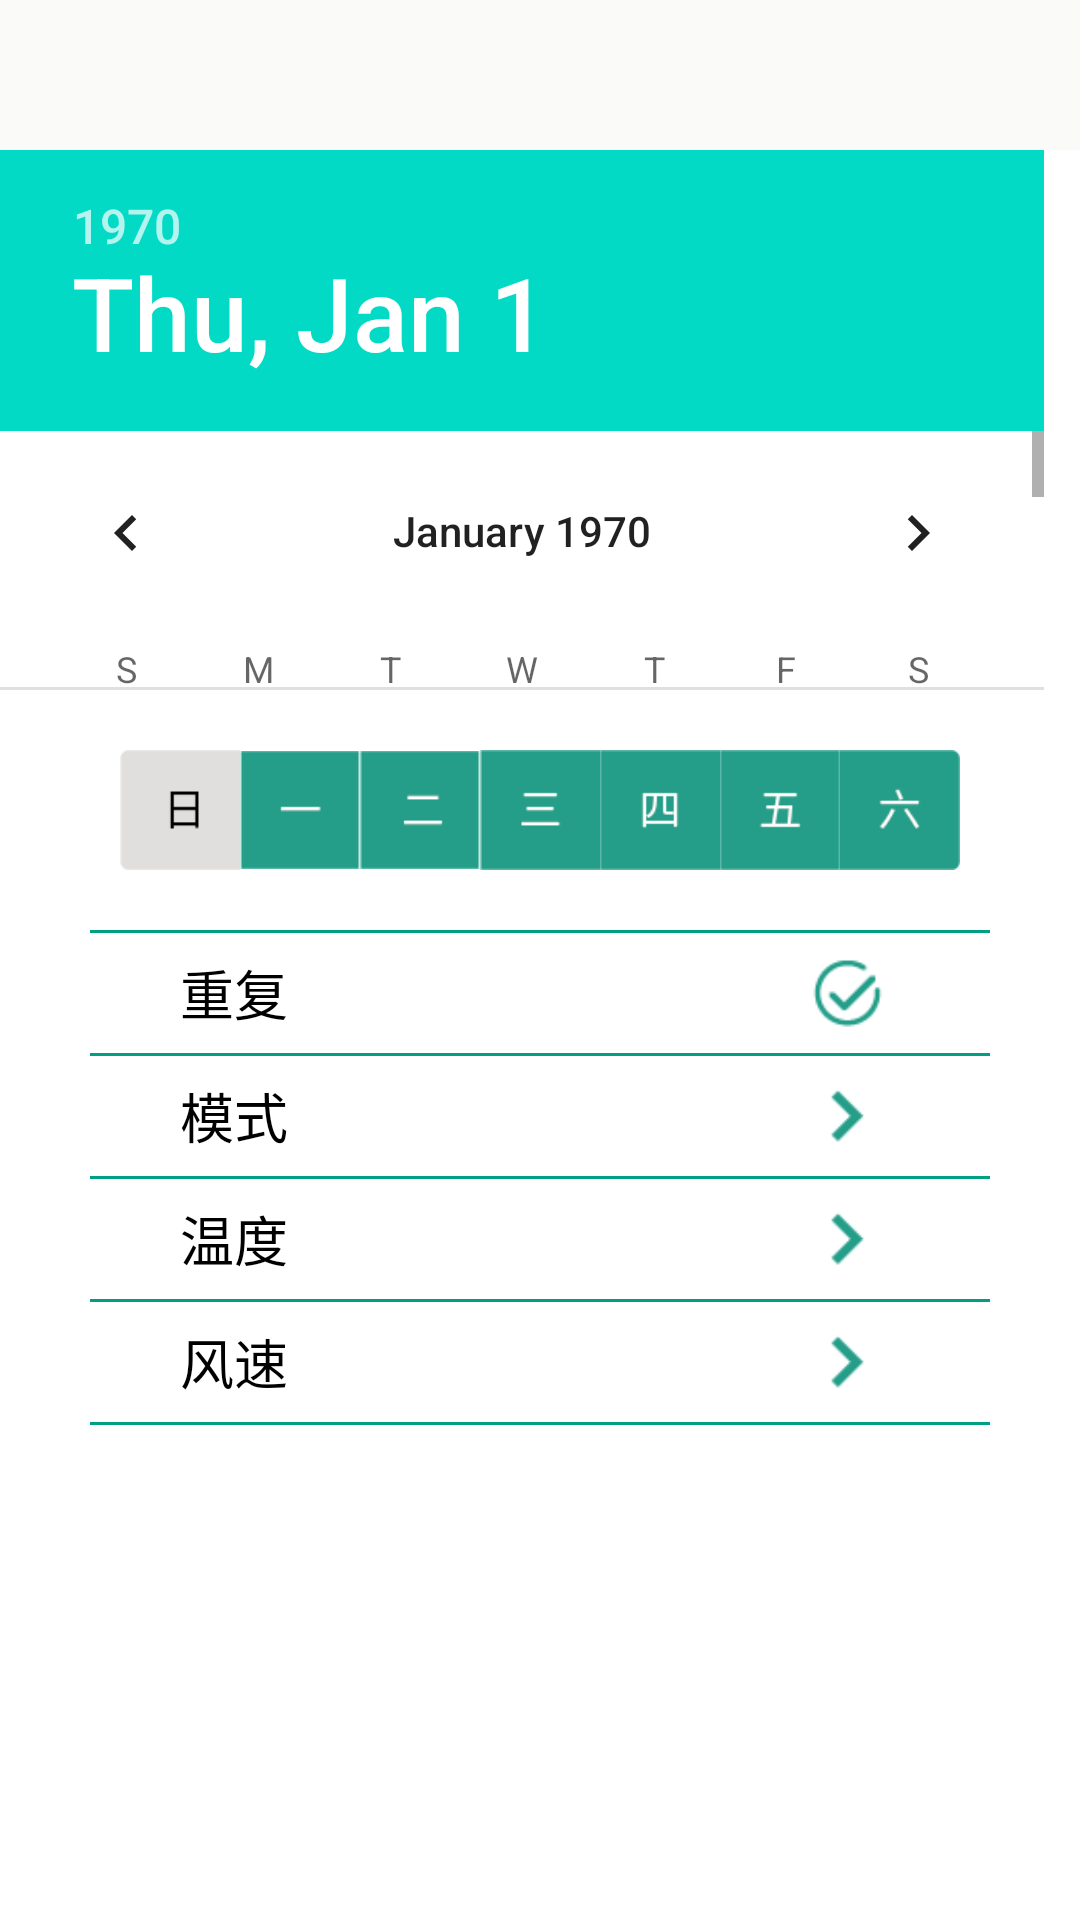

Icons on this 1080px x 1920px Android screen, each with its box as box=[x1, y1, x2, y2]:
right: box=[831, 1091, 864, 1142], box=[831, 1214, 864, 1265], box=[831, 1337, 864, 1388]
